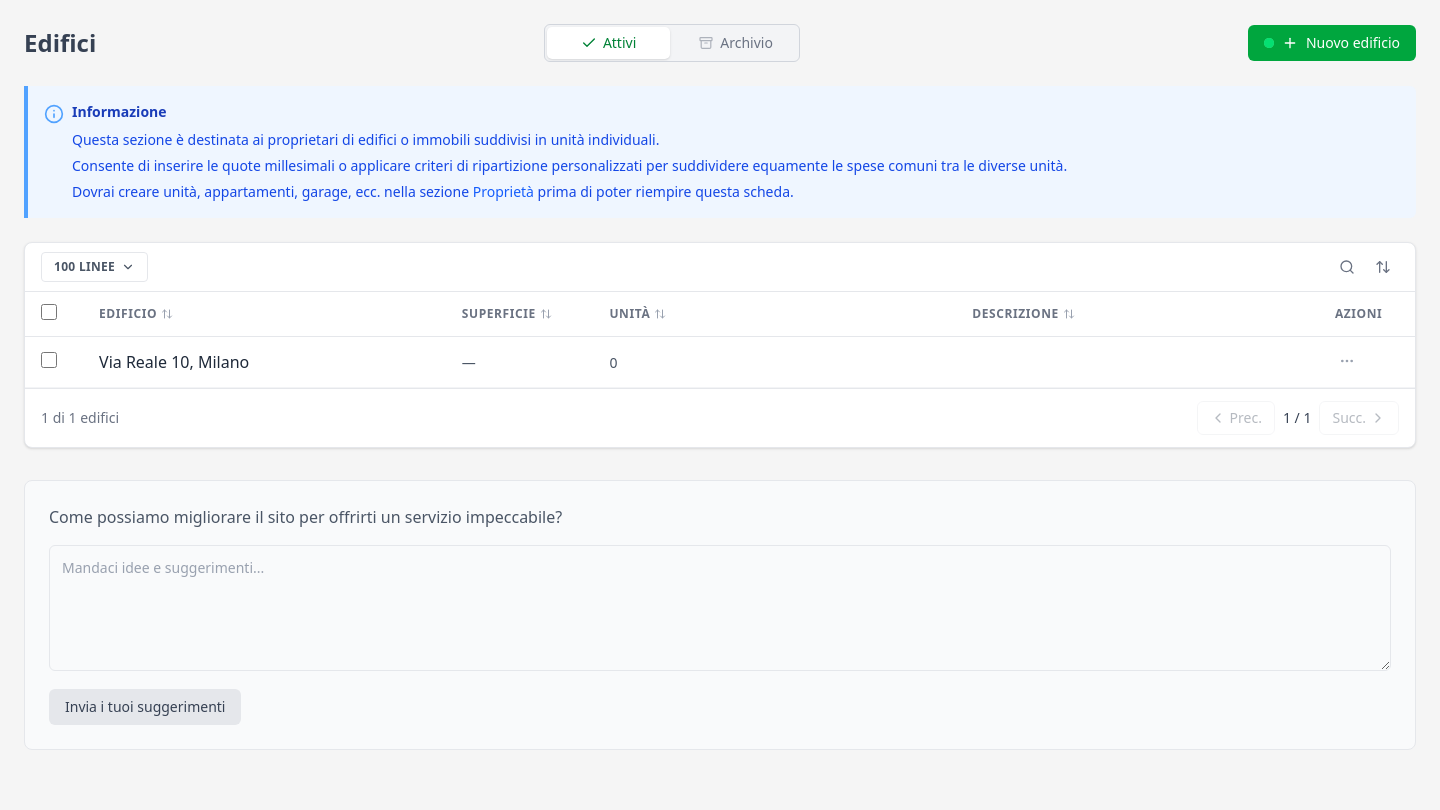
Test case: A6.1 building detail › naviga dalla lista al dettaglio usando il vero Building ID
Click the link "Via Reale 10, Milano": (174, 362) left=99, top=351, right=249, bottom=373
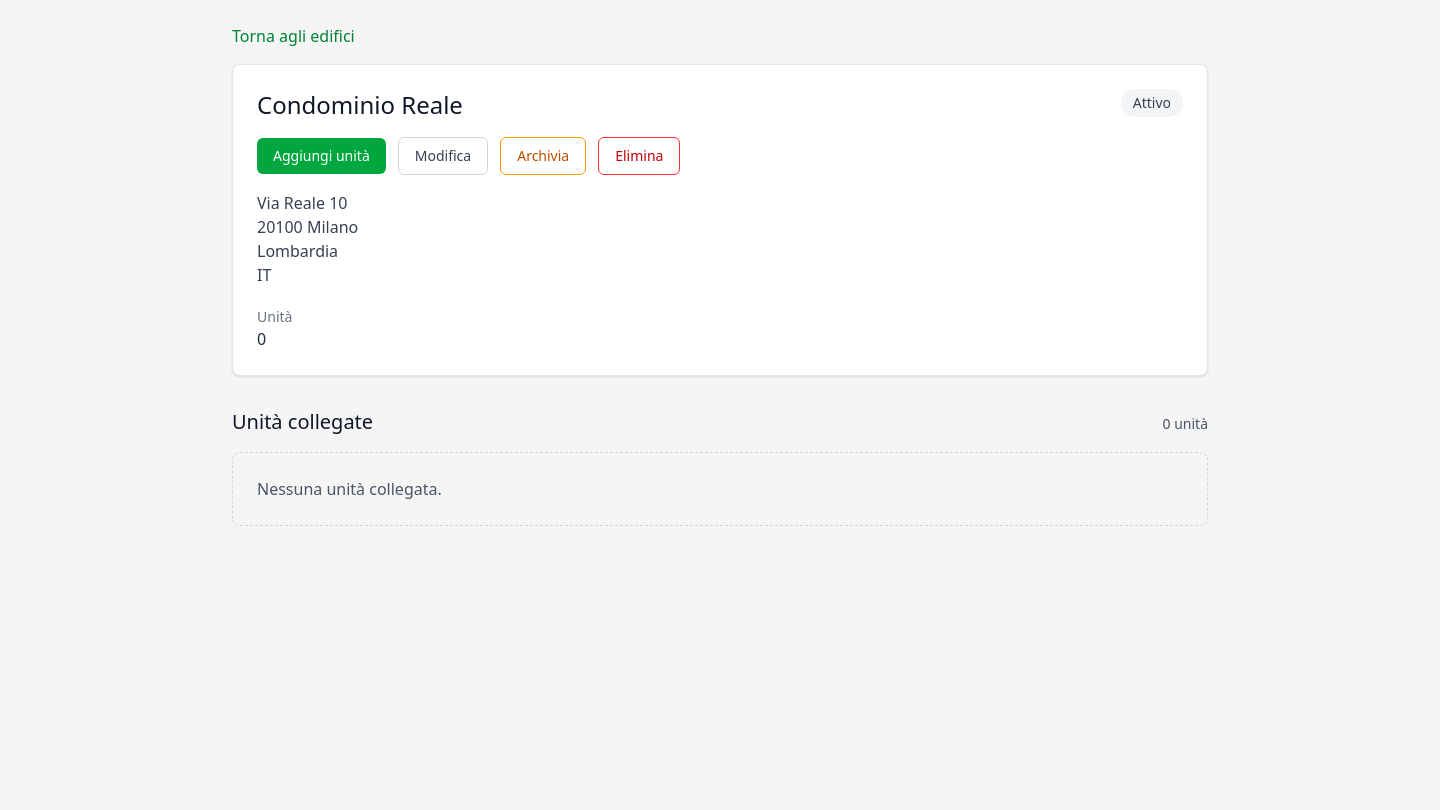
Check: the heading "Condominio Reale" is shown, box left=257, top=89, right=463, bottom=121
